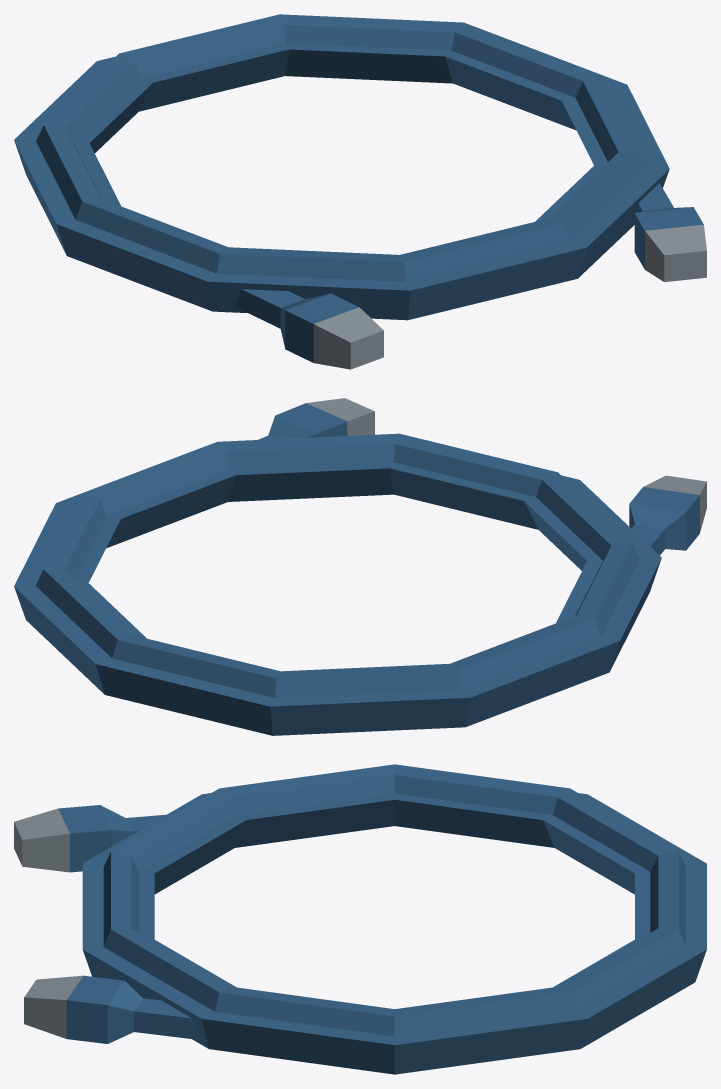
Rendered from CableCoil.obj.
3 renders of one model, top to bottom at view 1: azimuth 30°, elevation 25°; view 2: azimuth 150°, elevation 25°; view 3: azimuth 270°, elevation 25°, orthographic.
Size of the model in its own units: 0.4737 by 0.042 by 0.5.
Materials: 1 (1 with a texture image).
